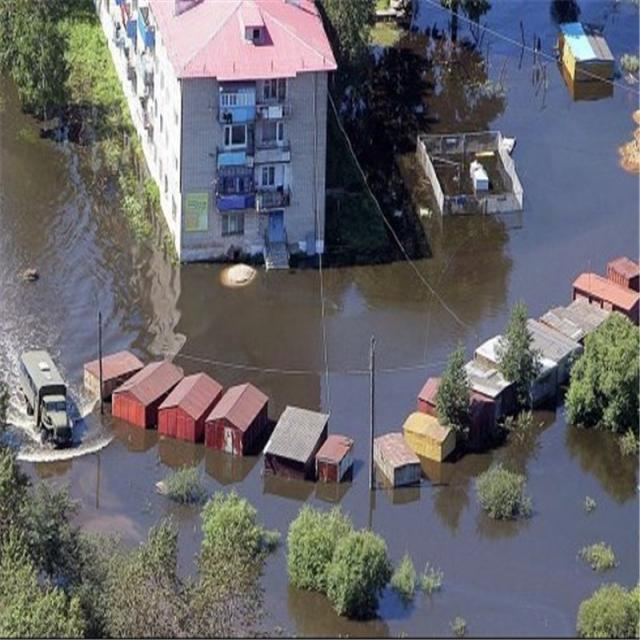flood: (0, 0, 640, 638), (6, 403, 113, 464), (0, 227, 25, 410), (580, 0, 640, 56), (413, 0, 451, 29)
house: (159, 0, 336, 240), (424, 339, 526, 462), (265, 401, 335, 482), (206, 380, 272, 452), (164, 366, 213, 446), (574, 266, 639, 326), (115, 358, 170, 428), (560, 27, 616, 90), (372, 431, 423, 498), (306, 429, 356, 489), (86, 346, 136, 392)
